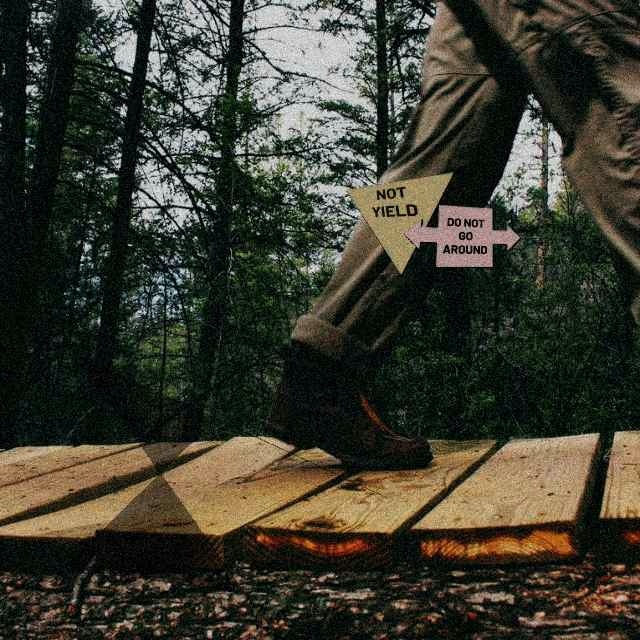DO_NOT_GO_AROUND: (403, 204, 521, 268)
NOT_YIELD: (345, 171, 456, 277)
